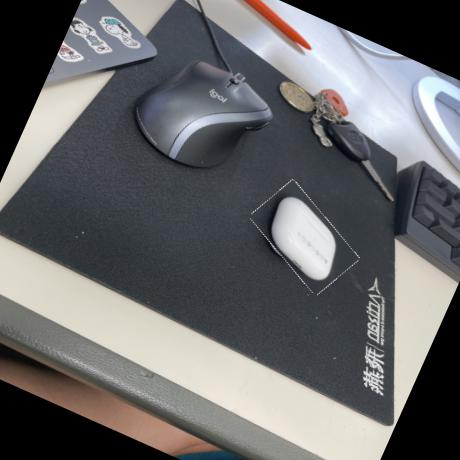airpod3: (237, 179, 370, 295)
